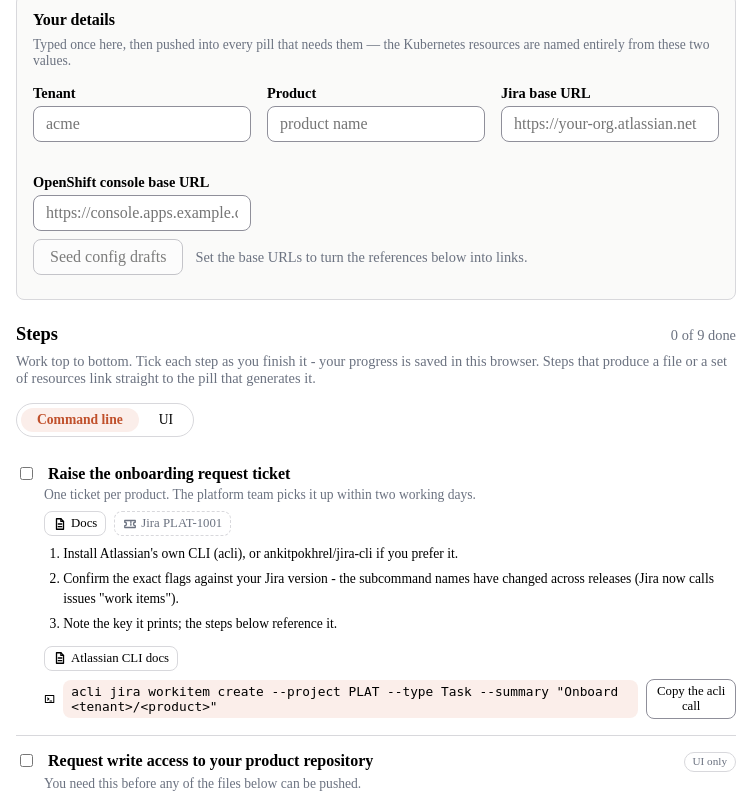
Test: OnboardingWorkspace › the console link › shows the path as plain text while no base URL is set
Click the radio button labelled "UI" at x=166, y=420, box left=159, top=412, right=173, bottom=427
(page scrolled)
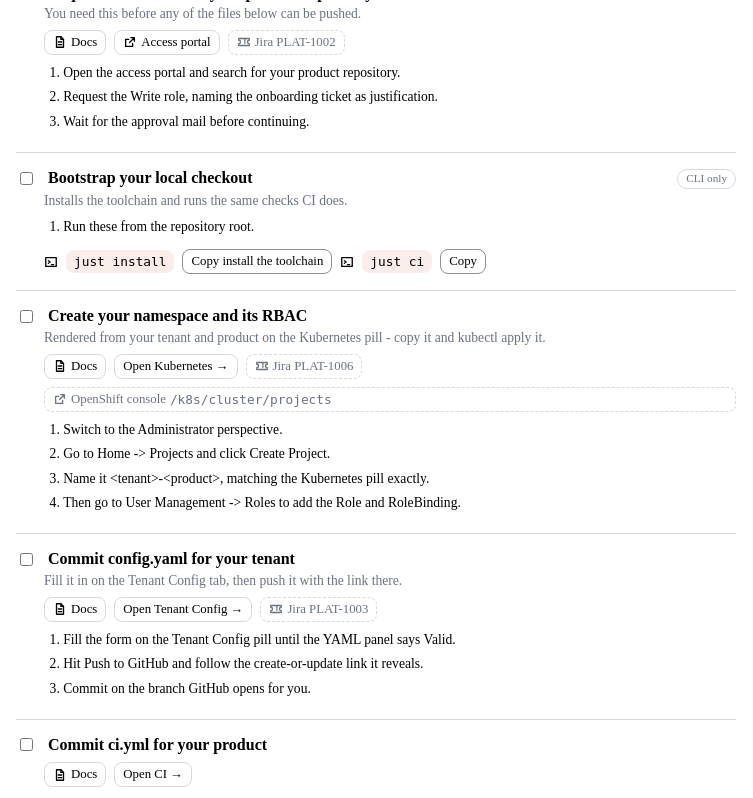
Result: the text "/k8s/cluster/projects" is shown at left=170, top=392, right=332, bottom=407
